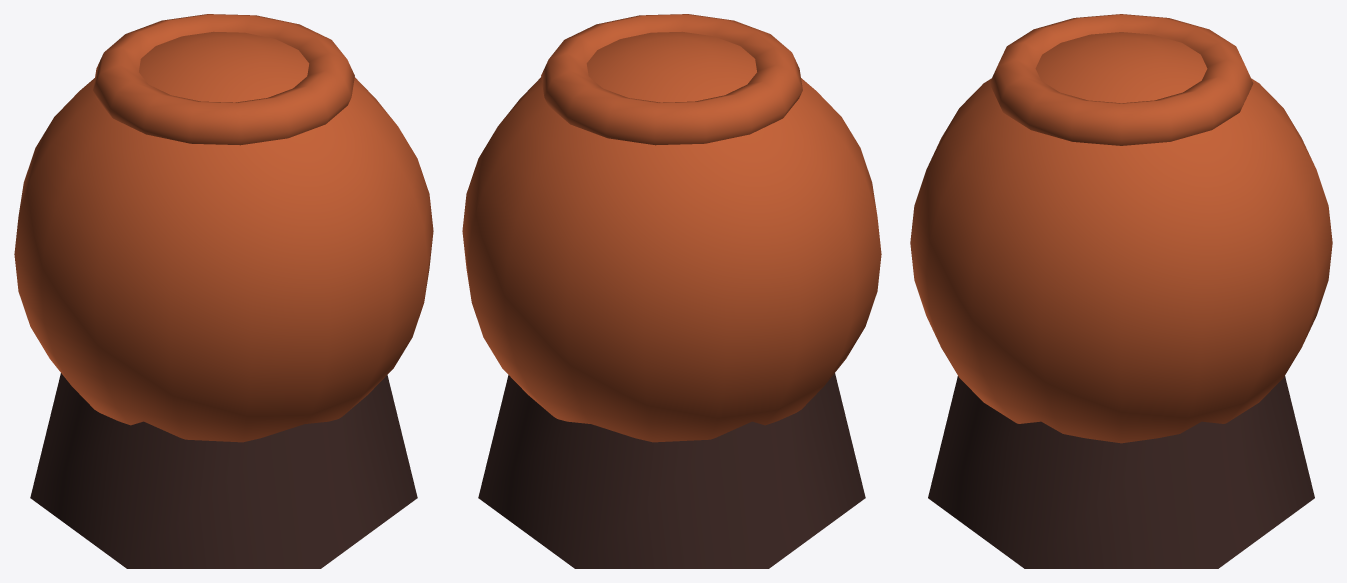
Rendered from clay_jar_kam.glb.
3 renders of one model, left to right at view 1: azimuth 30°, elevation 25°; view 2: azimuth 150°, elevation 25°; view 3: azimuth 270°, elevation 25°, orthographic.
Parts seen in each view (by area): view 1: Khmer_Clay_Jar_Kam; view 2: Khmer_Clay_Jar_Kam; view 3: Khmer_Clay_Jar_Kam.
Part boxes in pixels (left/top/right/bottom): Khmer_Clay_Jar_Kam: left=14, top=14, right=433, bottom=568; Khmer_Clay_Jar_Kam: left=462, top=14, right=881, bottom=568; Khmer_Clay_Jar_Kam: left=910, top=14, right=1332, bottom=568.
Size of the model in its own units: 0.48 by 0.56 by 0.48.
